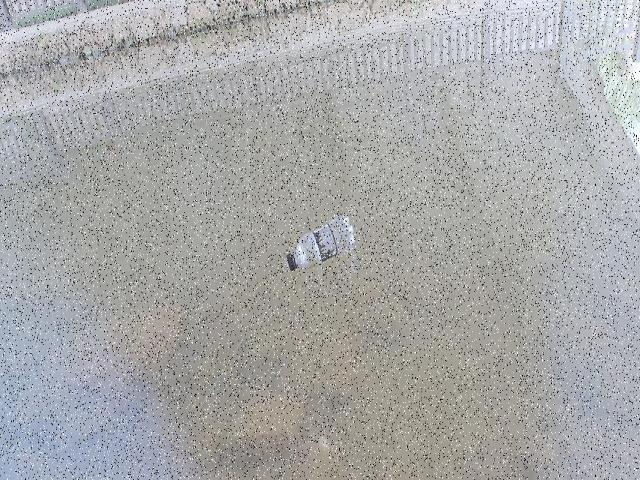Bottle: (279, 212, 362, 276)
